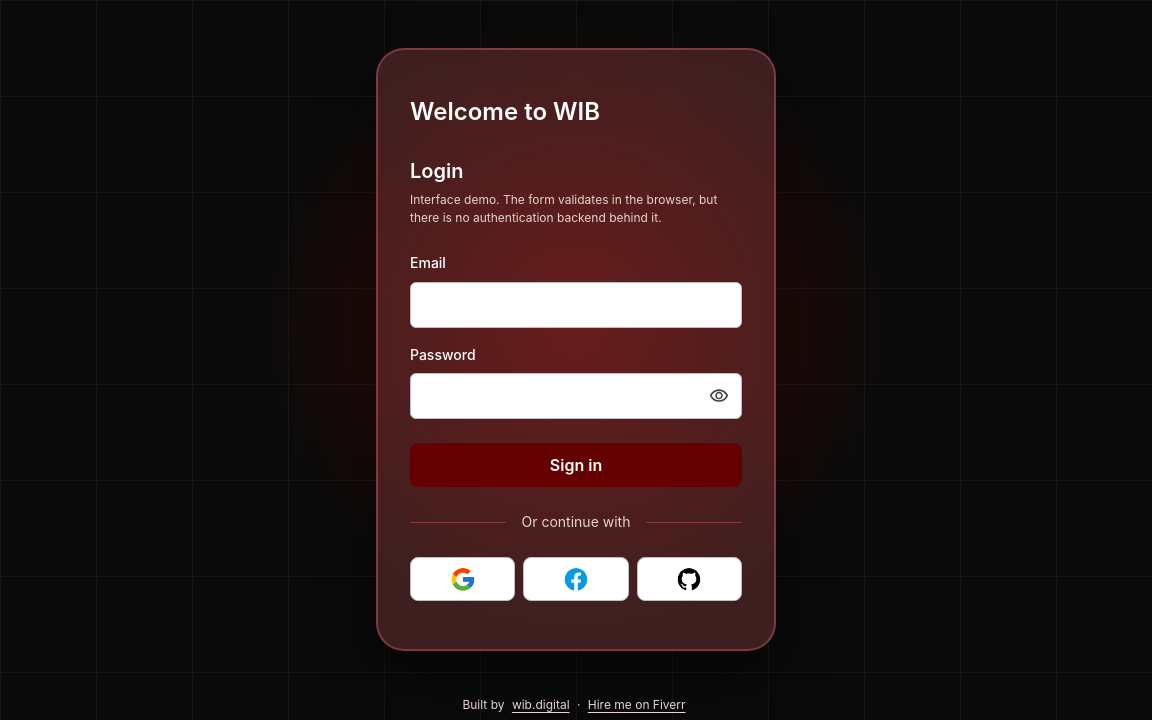
Test: login screen › says a social provider is not connected when its button is used
Click the button named "continue with github" at (689, 579), box [637,557,742,601]
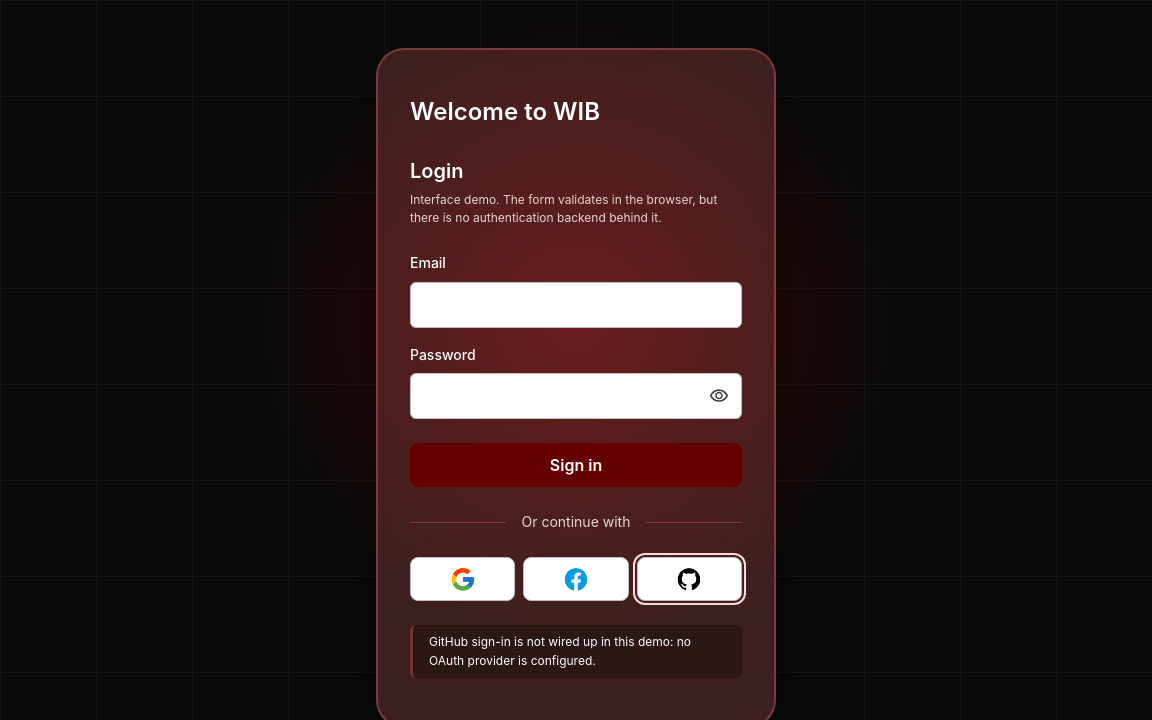
Check: the text "GitHub sign-in is not wired up" is shown, box [429,634,691,668]
